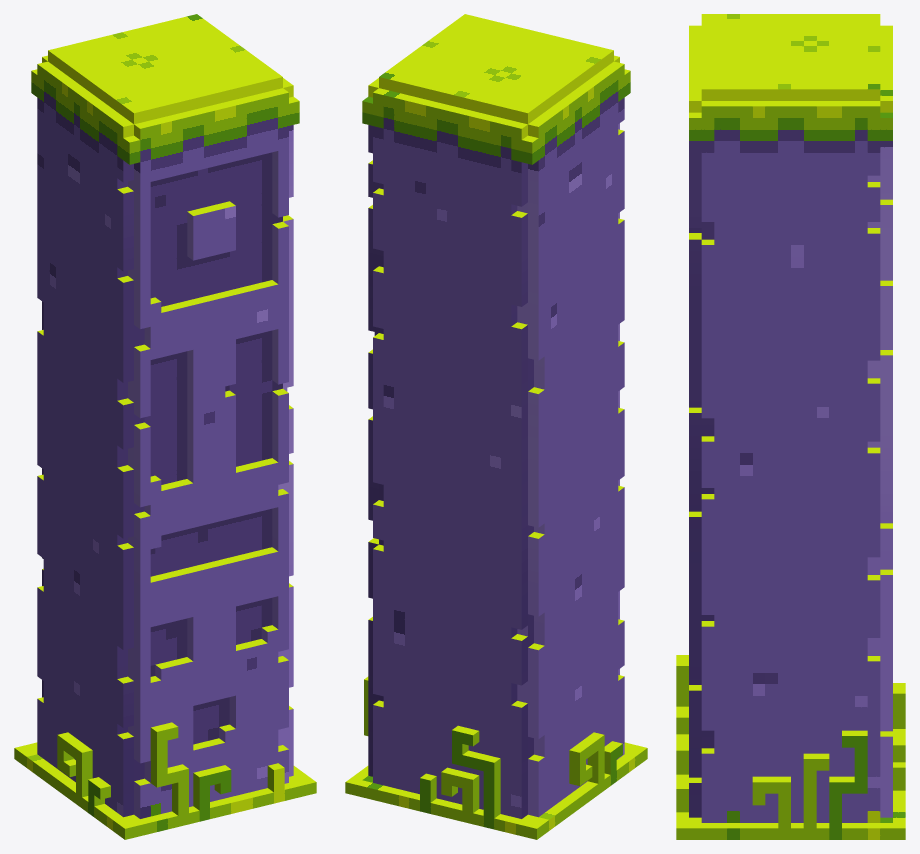
Rendered from evol_pillar2222ao.fezao.glb.
The picture shows the model from 3 angles, left to right: view 1: azimuth 30°, elevation 25°; view 2: azimuth 150°, elevation 25°; view 3: azimuth 270°, elevation 25°; orthographic projection. The views are drawn at different scales.
Parts seen in each view (by area): view 1: evol_pillar2222AO; view 2: evol_pillar2222AO; view 3: evol_pillar2222AO.
Boxes of the visible parts, <box> form: evol_pillar2222AO: <box>14,14,316,839</box>; evol_pillar2222AO: <box>345,14,647,839</box>; evol_pillar2222AO: <box>676,14,905,839</box>.
Size of the model in its own units: 1.12 by 4 by 1.12.
1 material, 1 textured.
